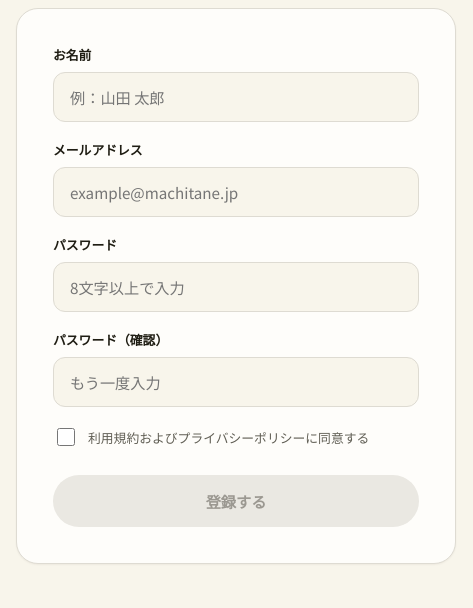
SignupForm › 確認用パスワードが一致しないとエラーになる
Type "山田太郎" into the field with id "signup-name" at {"x": 236, "y": 97}, box [53,72,419,122]
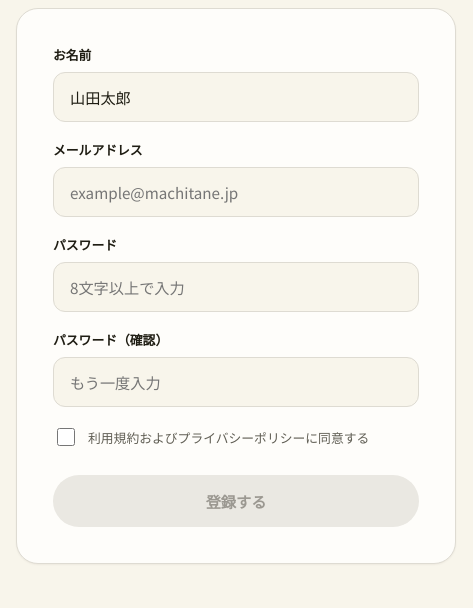
Type "taro@example.com" into the field with id "signup-email" at {"x": 236, "y": 192}, box [53,167,419,217]
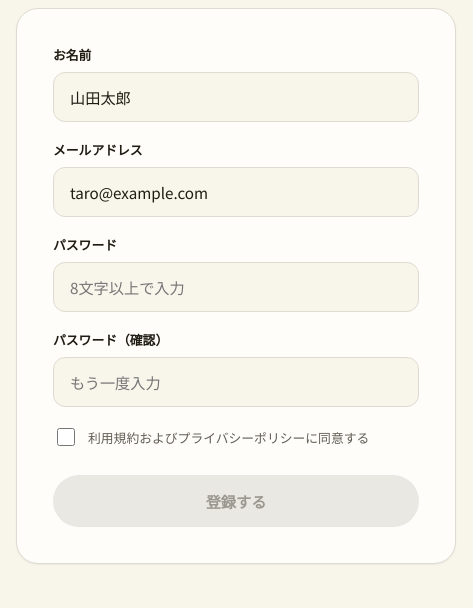
Type "password123" into the password field with id "signup-password" at {"x": 236, "y": 287}, box [53,262,419,312]
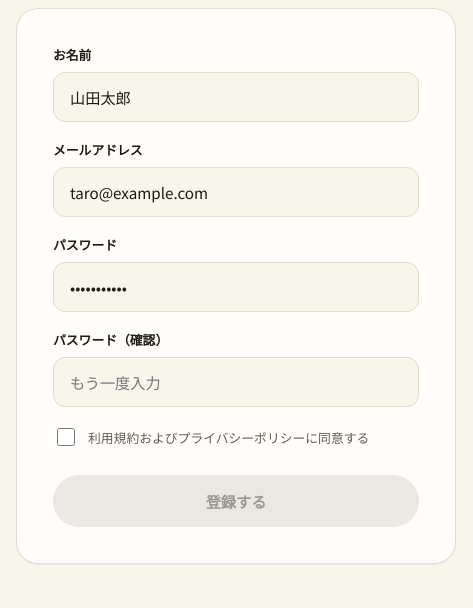
Type "different-password" into the password field with id "signup-password-confirmation" at {"x": 236, "y": 382}, box [53,357,419,407]
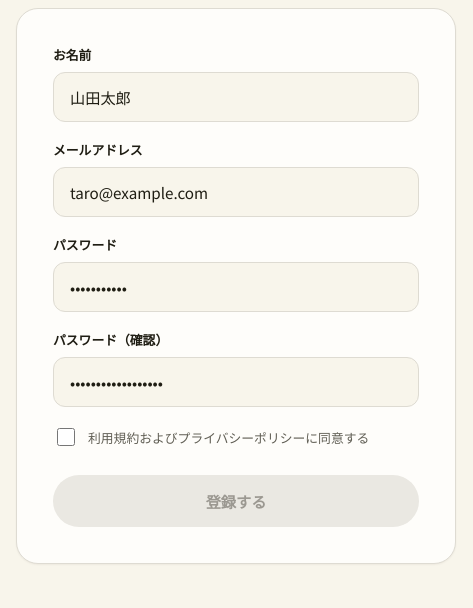
Click the checkbox labelled "利用規約およびプライバシーポリシーに同意する" at {"x": 66, "y": 437}, box [57,428,75,446]
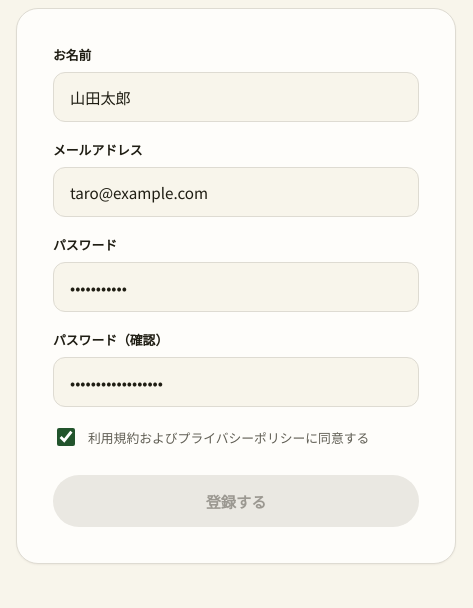
Submit the form
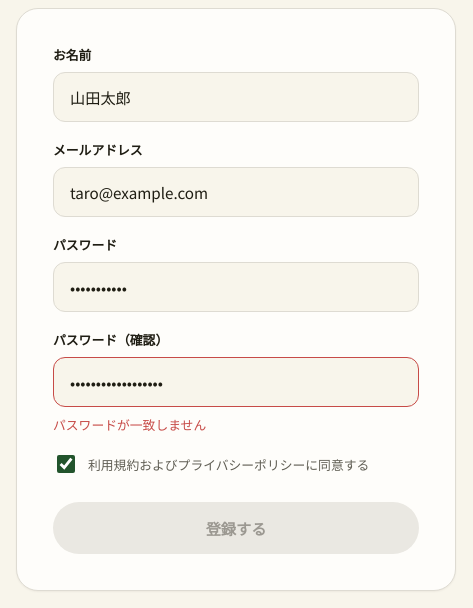
Result: the form shows "パスワードが一致しません" at [53,415,206,434]
